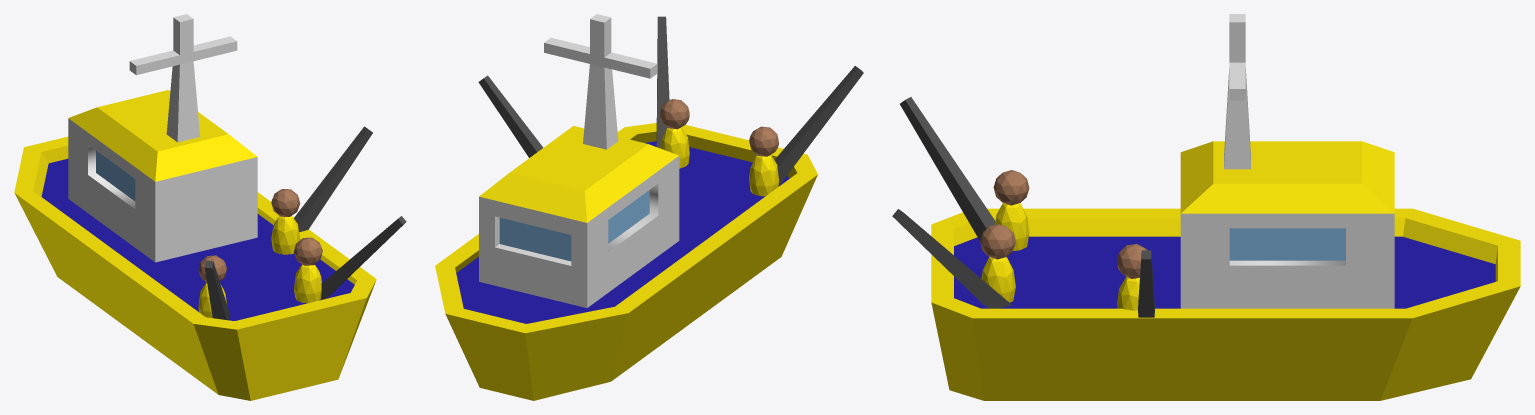
Rendered from BoatYellowSmall.fbx.
3 views of the same model, side by side, from view 1: azimuth 30°, elevation 25°; view 2: azimuth 150°, elevation 25°; view 3: azimuth 270°, elevation 25° (orthographic). The views are drawn at different scales.
Parts seen in each view (by area): view 1: BoatYelSmall; view 2: BoatYelSmall; view 3: BoatYelSmall.
Part boxes in pixels (left/top/right/bottom): BoatYelSmall: left=14, top=14, right=406, bottom=400; BoatYelSmall: left=435, top=14, right=863, bottom=400; BoatYelSmall: left=892, top=14, right=1520, bottom=400.
Size of the model in its own units: 171 by 175 by 286.
